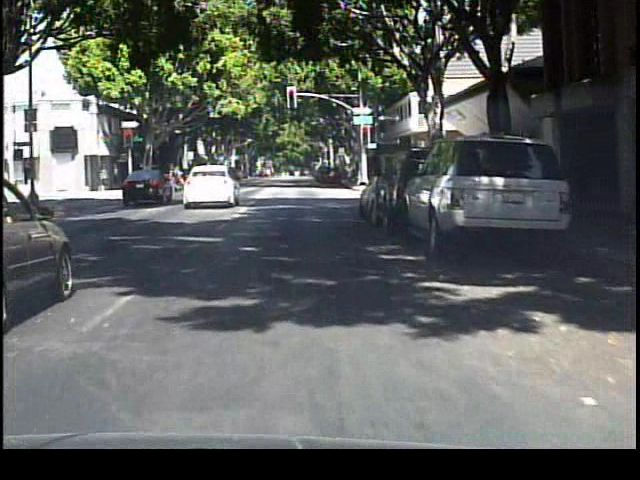person: (171, 161, 187, 200)
